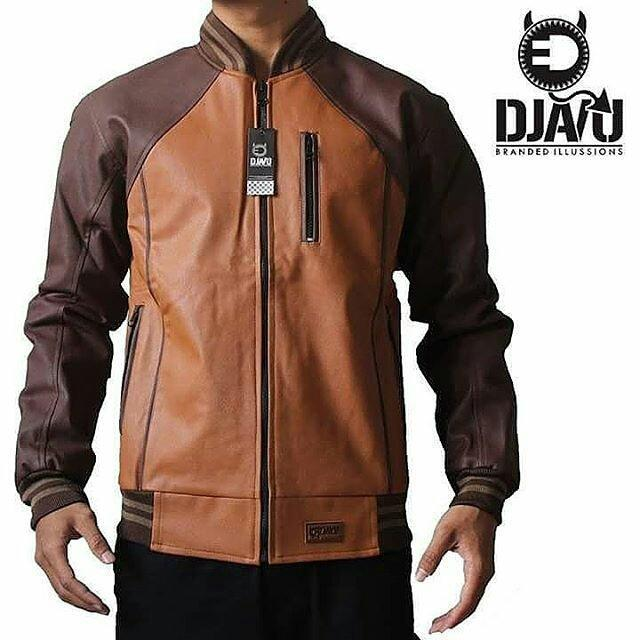jacket: (13, 16, 518, 575)
